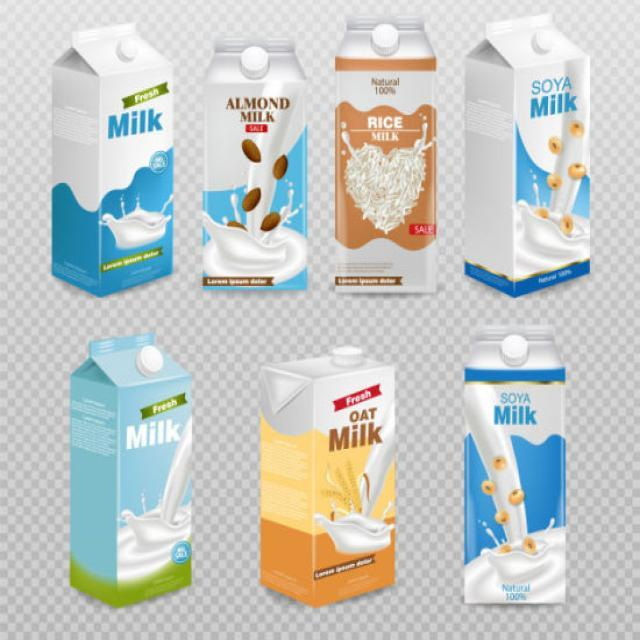Carton: (39, 13, 184, 320), (57, 324, 200, 620), (450, 320, 586, 626), (458, 5, 596, 302), (190, 24, 311, 310)
Tetra: (248, 344, 408, 610)
